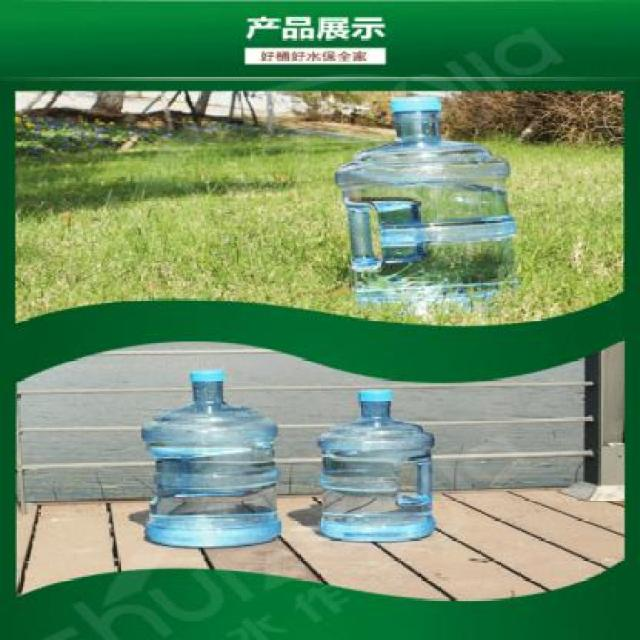coolerbottle: (334, 94, 526, 303), (138, 365, 290, 553), (316, 384, 442, 546)
